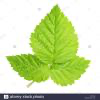Raspberry leaf: (29, 3, 79, 64), (2, 53, 51, 83), (50, 54, 92, 87)
